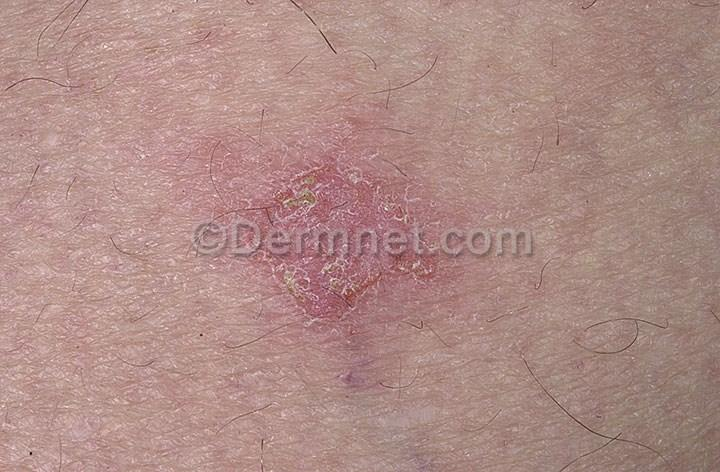Eczema: (141, 88, 449, 389)
